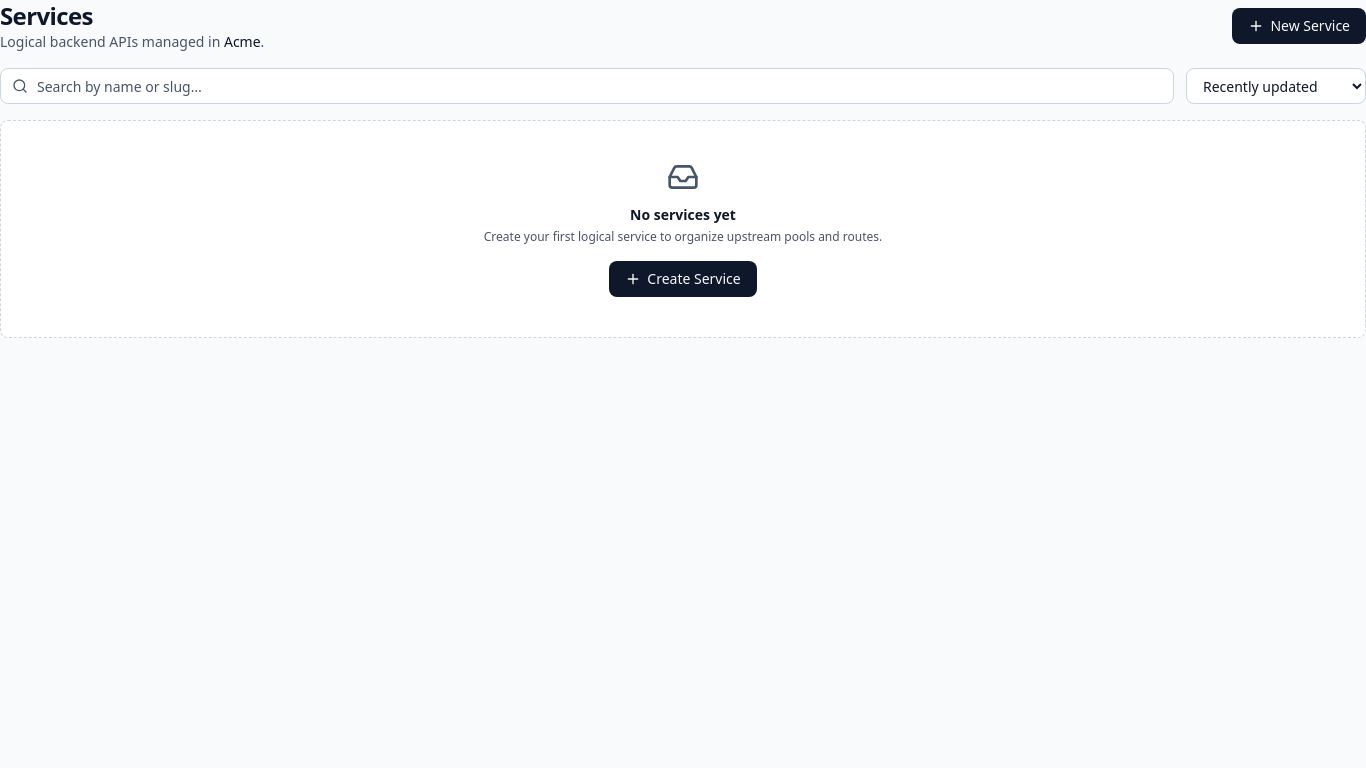
Test: ServicesManager › validates slug/name and creates a service with CSRF token
Expected: the heading "No services yet" is shown, [630, 205, 736, 225]
Click the button "New Service" at (1299, 26), box [1232, 8, 1365, 44]
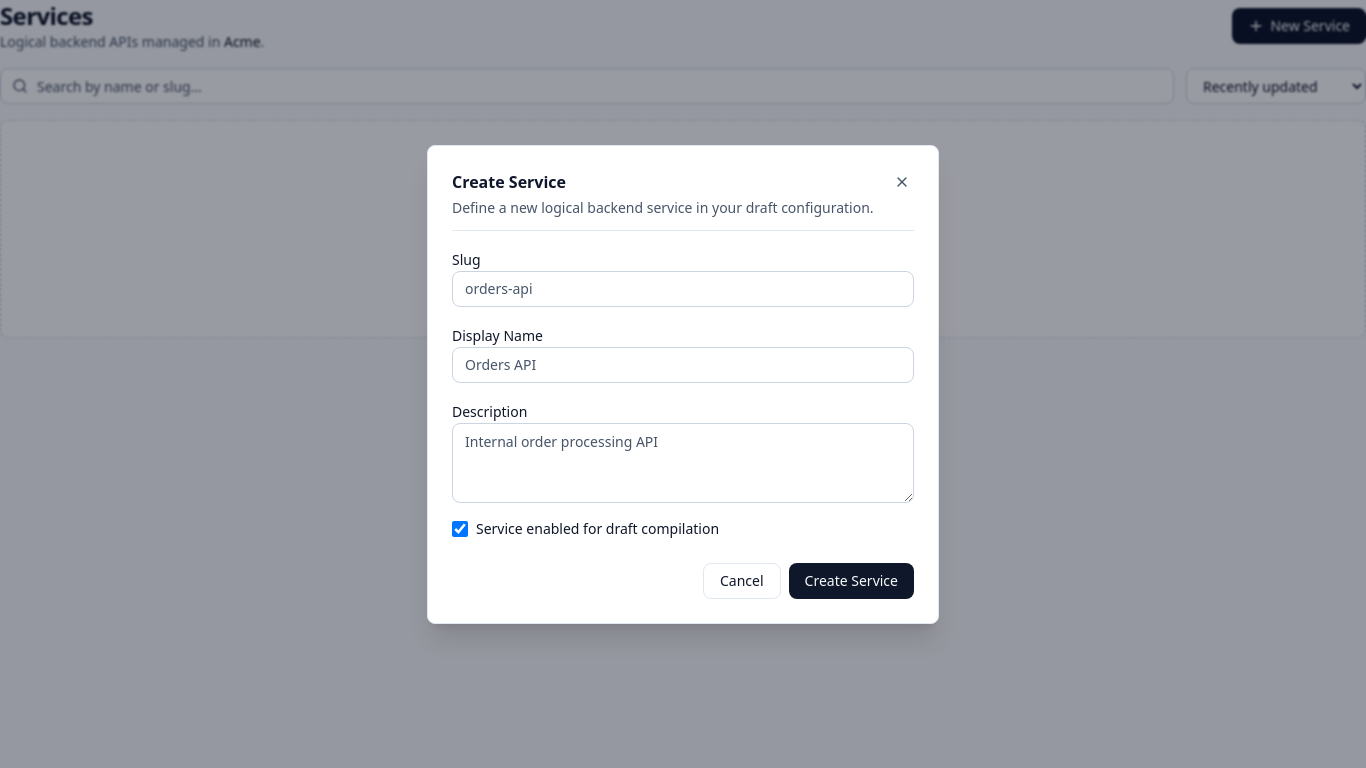
Type "BAD SLUG!" into the field labelled "Slug" at (683, 288), box [452, 270, 914, 306]
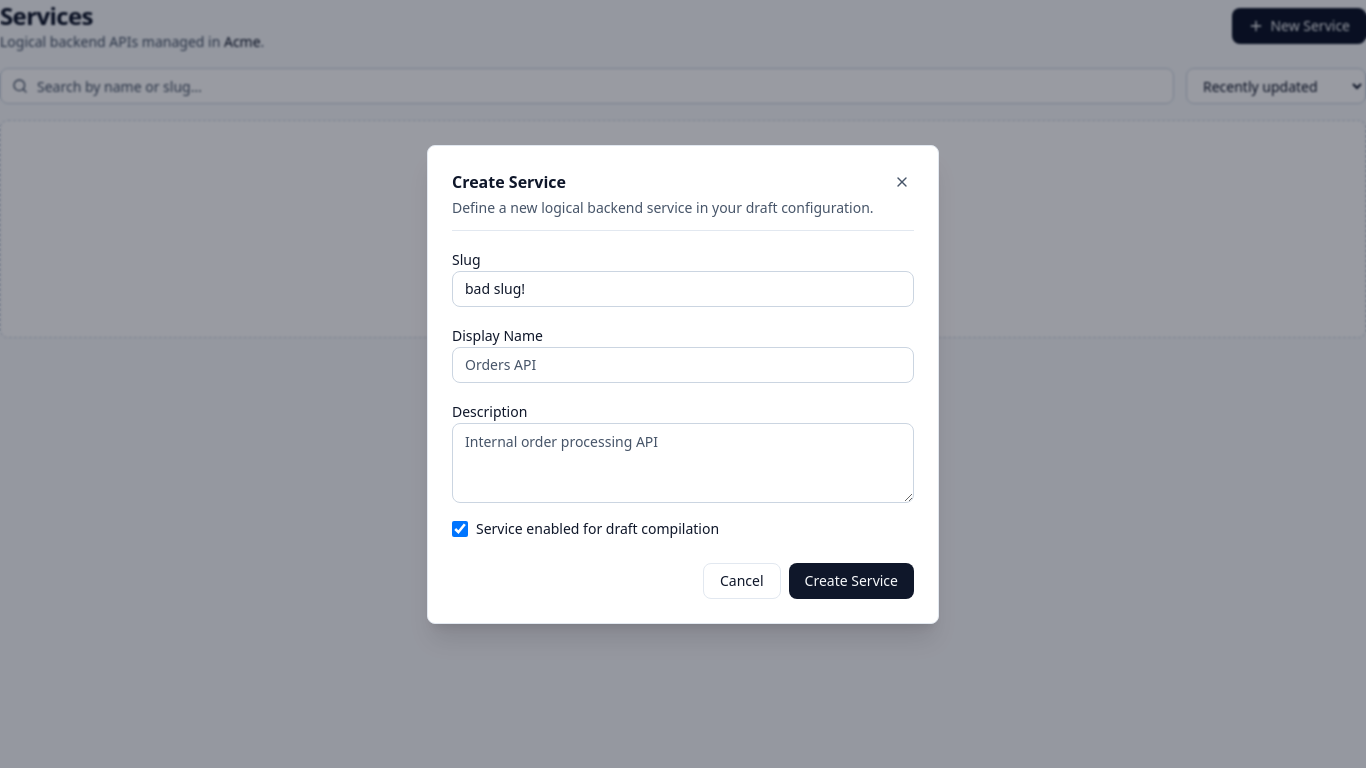
Click the button "Create Service" at (851, 580), box [789, 562, 914, 598]
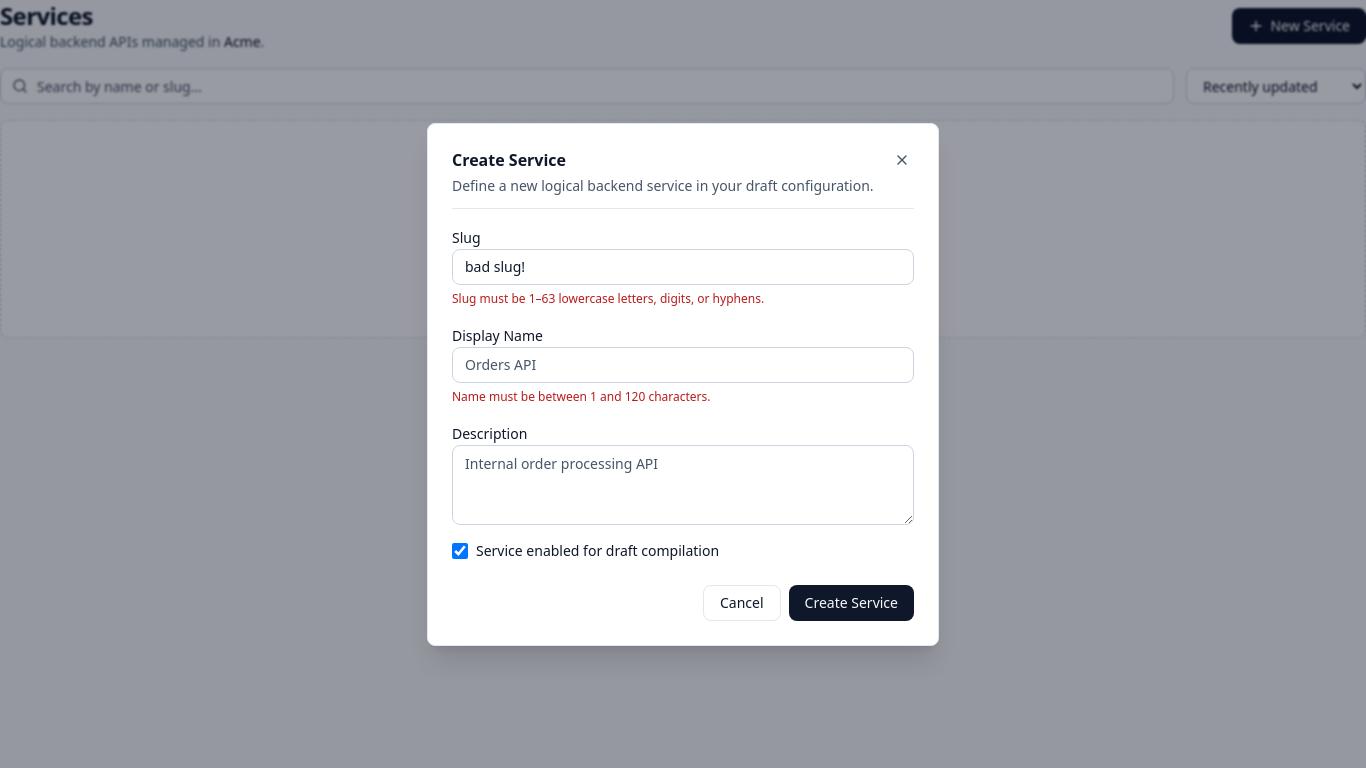
Expected: the text "Slug must be 1–63 lowercase letters, digits, or hyphens." is shown, [452, 290, 764, 306]
Replace the text in the field labelled "Slug" with "payments" at (683, 266), box [452, 248, 914, 284]
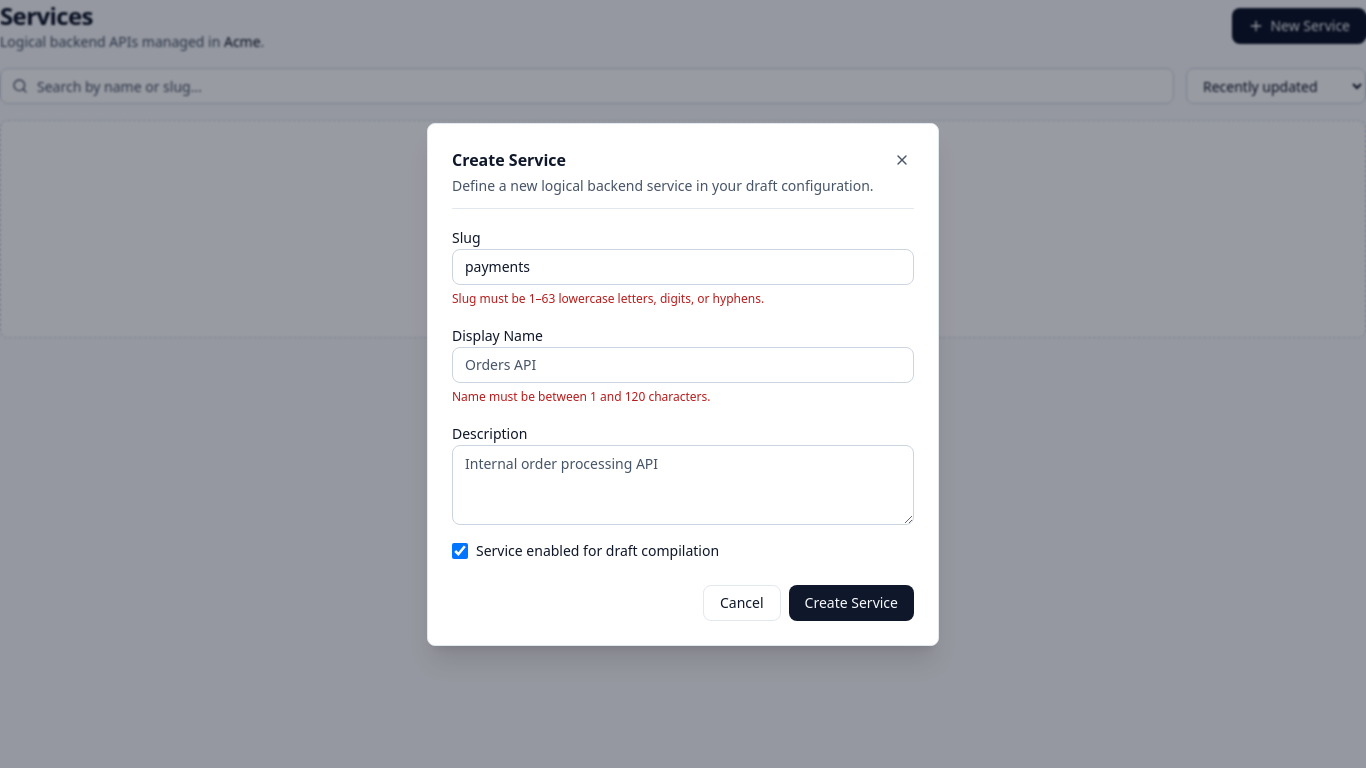
Type "Payments" into the field labelled "Display Name" at (683, 364), box [452, 346, 914, 382]
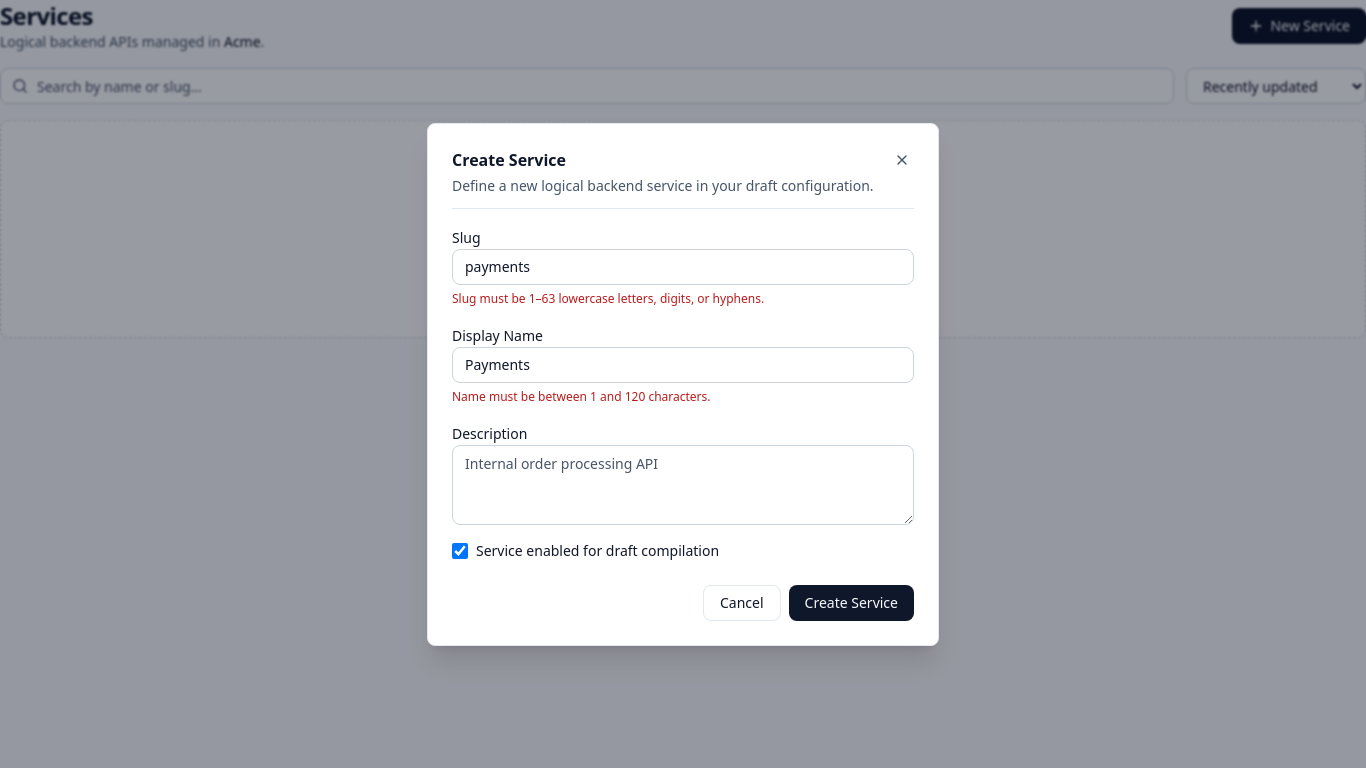
Click the button "Create Service" at (851, 602), box [789, 584, 914, 620]
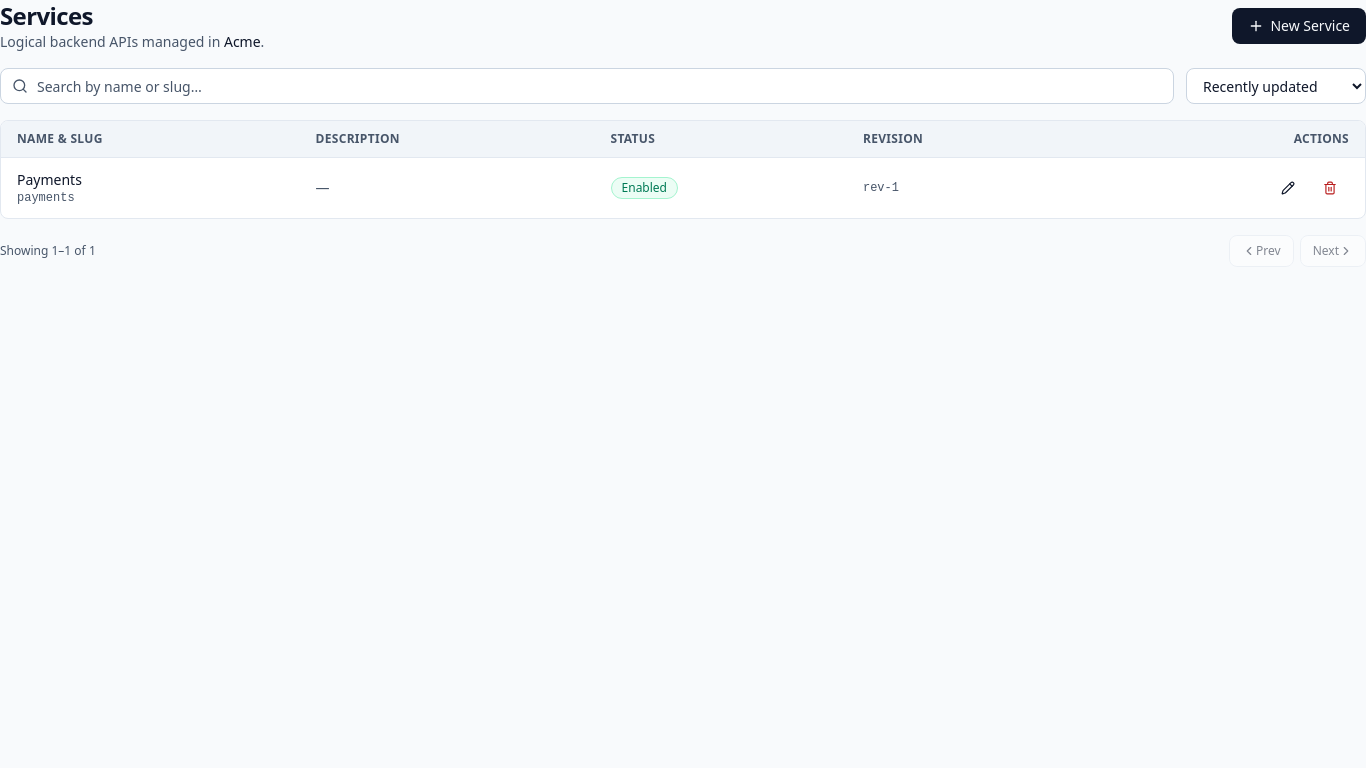
Expected: the text "Payments" is shown, [17, 170, 82, 189]
